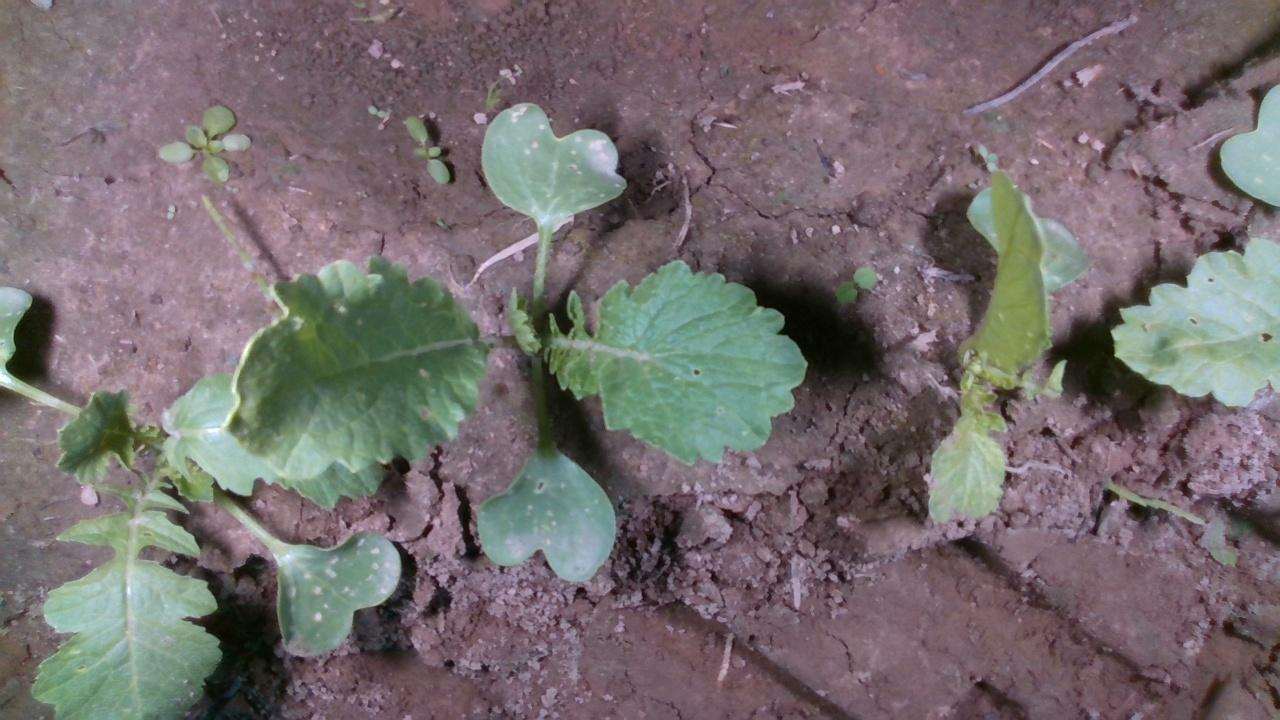weed: (155, 102, 253, 185), (402, 114, 449, 185), (832, 264, 878, 307)
